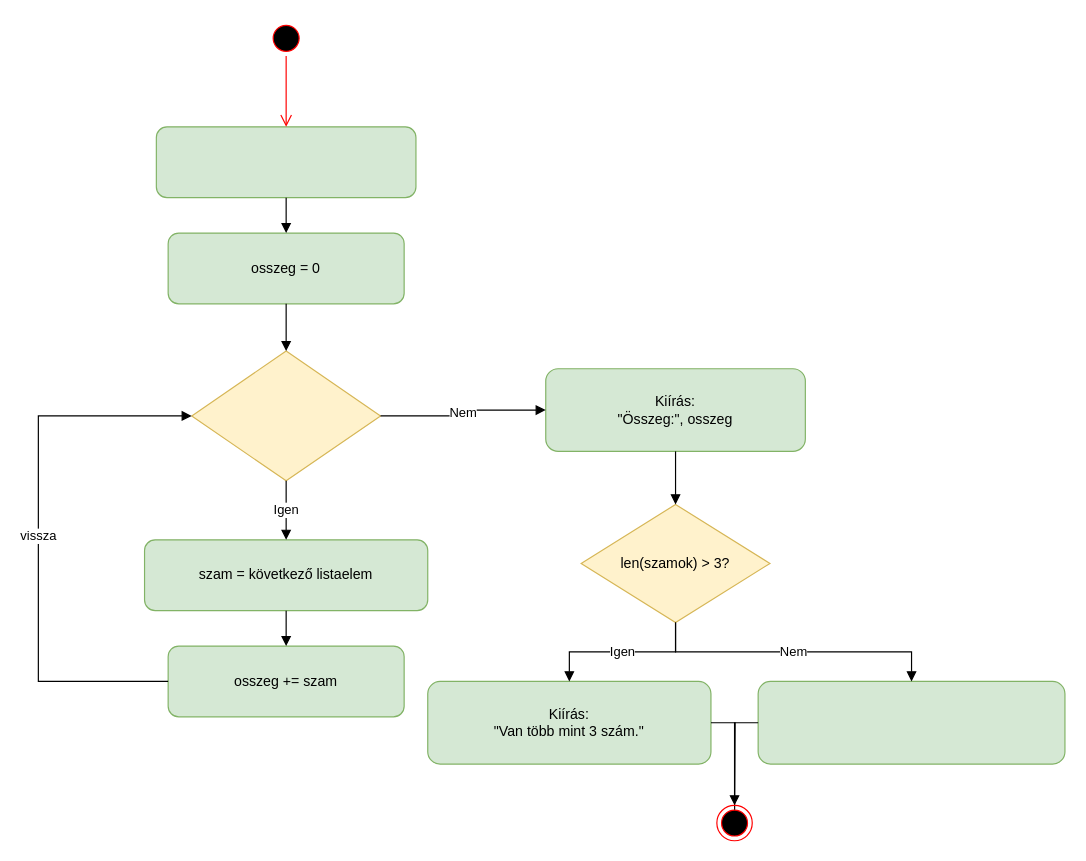
This 1086x861 diagram has some shape labels left out. Here are the shapes that lost their labels. From the top down, the centre of each, then its label:
point (285, 162): szamok = [2, 4, 6]
point (286, 415): Van még következő elem?
point (911, 722): Kiírás: "Nincs több mint 3 szám."
